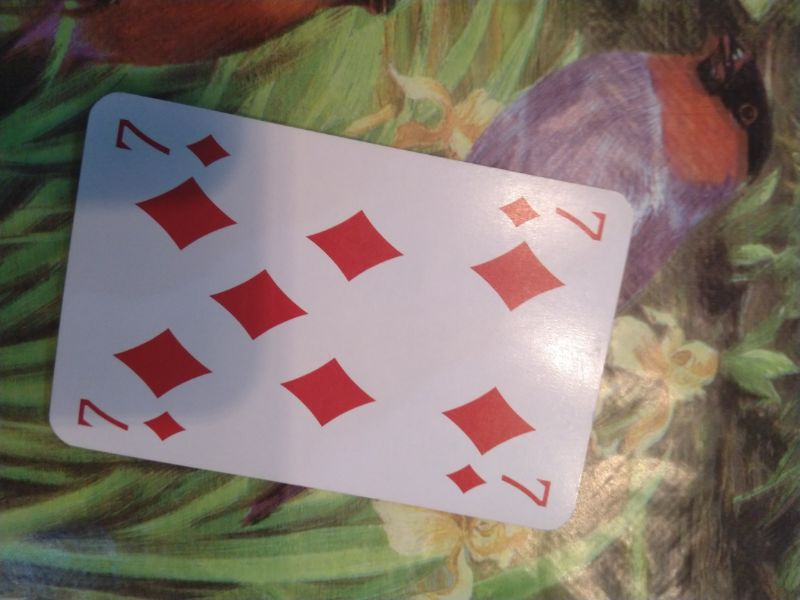7d: (110, 111, 235, 169), (70, 390, 190, 448), (494, 186, 611, 245), (441, 456, 556, 511)
